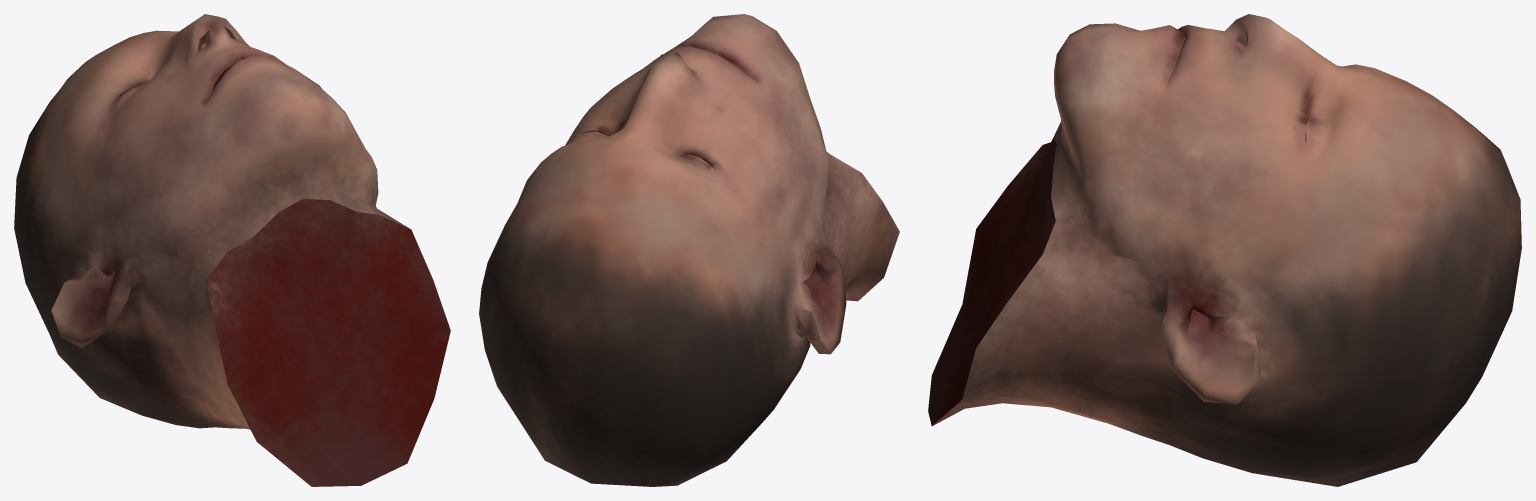
The model's file is Head.FBX.
The picture shows the model from 3 angles, left to right: view 1: azimuth 30°, elevation 25°; view 2: azimuth 150°, elevation 25°; view 3: azimuth 270°, elevation 25°; orthographic projection. The views are drawn at different scales.
Parts seen in each view (by area): view 1: CorpseHead; view 2: CorpseHead; view 3: CorpseHead.
Part boxes in pixels (x1,y1,x2,y2): CorpseHead: [14, 14, 450, 486]; CorpseHead: [479, 14, 899, 486]; CorpseHead: [928, 14, 1521, 486].
Bounding box in the file's own units: 299 × 372 × 441.
